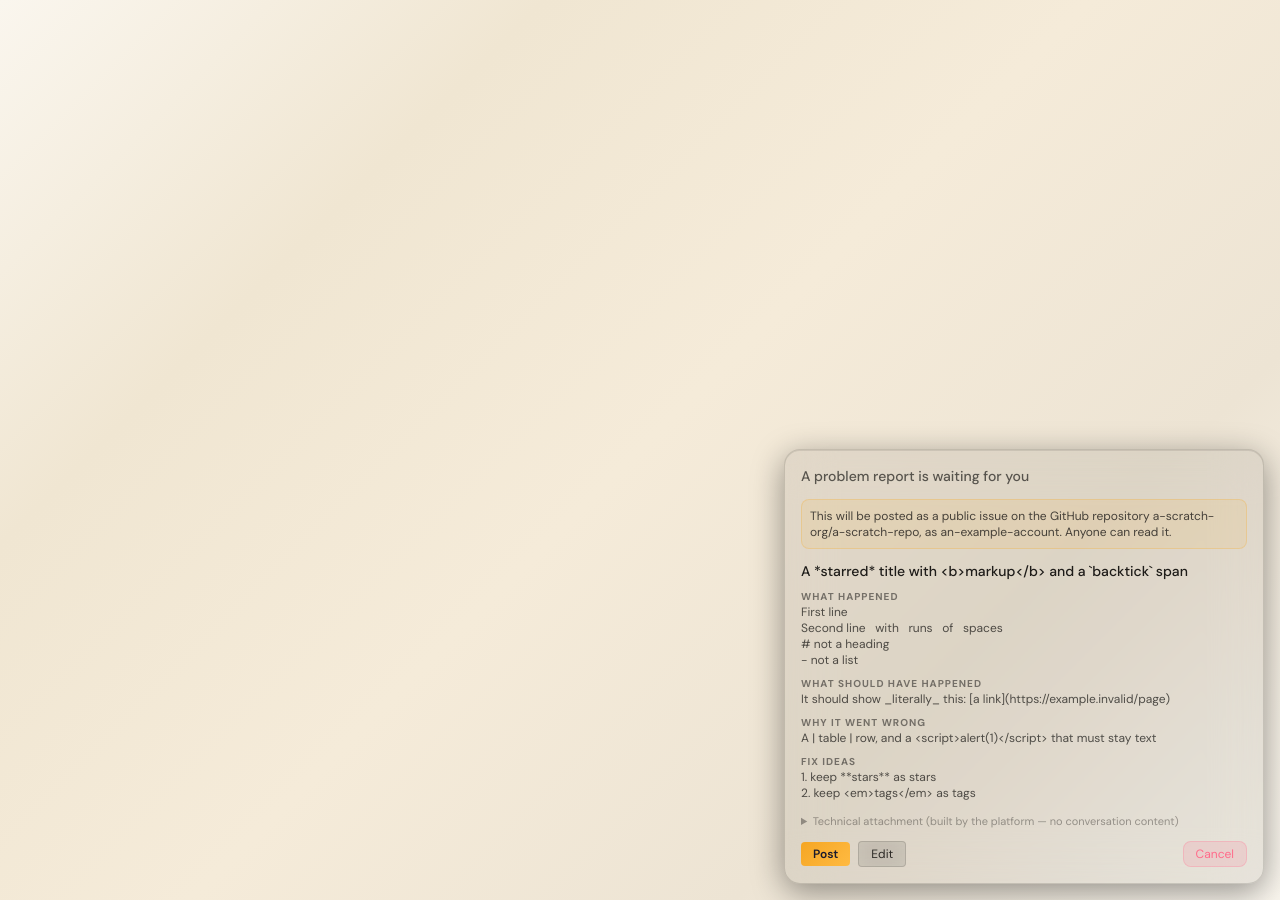
Test: the brief the owner approves is the brief the owner was shown › shows the prefilled link and a Copy button, and no file path, when nothing was posted (T6 §7, v3.4 E2)
Expected: the text "A *starred* title with <b>markup</b> and a `backtick` span" is shown, [801,560,1247,580]
Click the button "Post": (826, 854) [801,842,850,866]
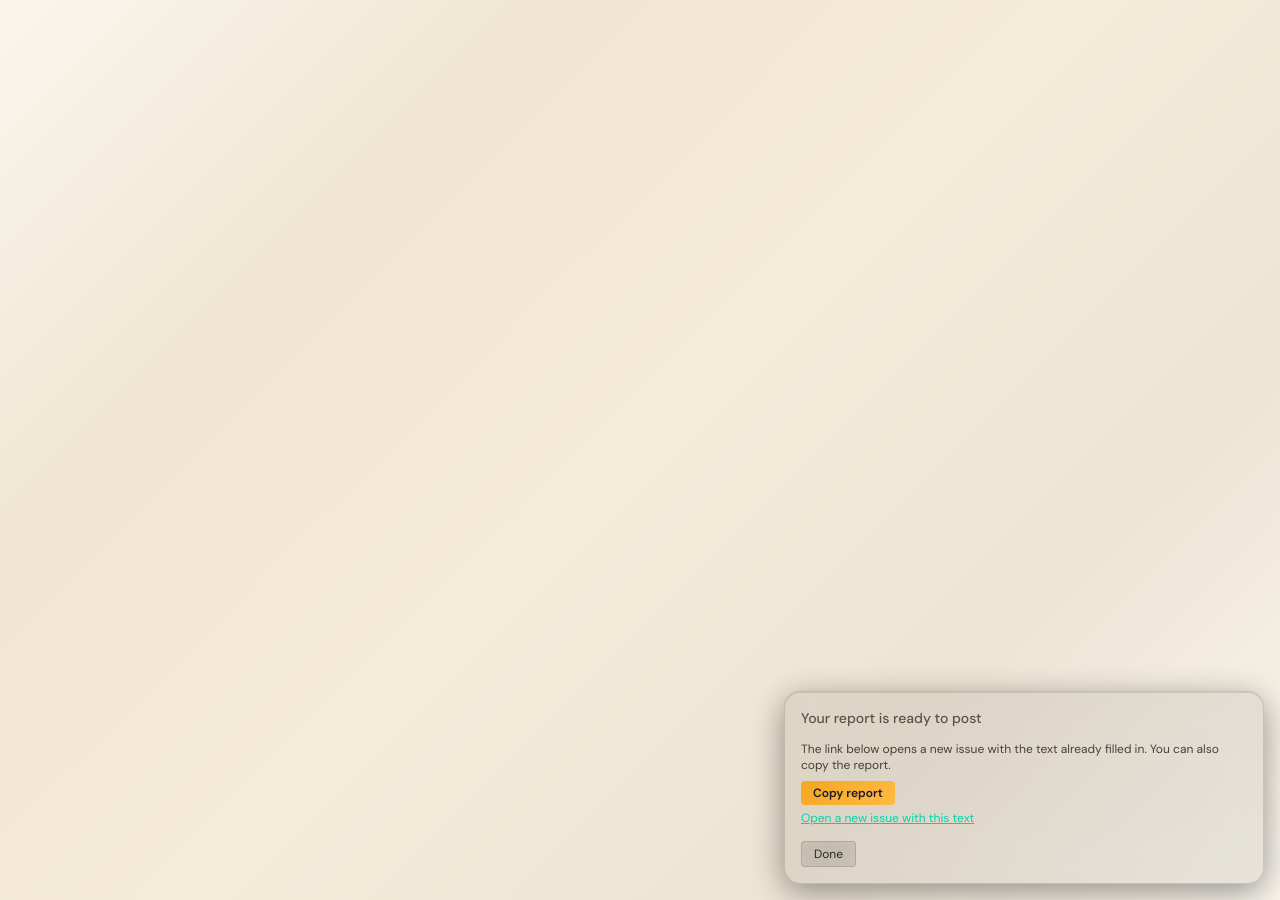
Result: the button "Copy report" is shown at [801,781,895,805]
